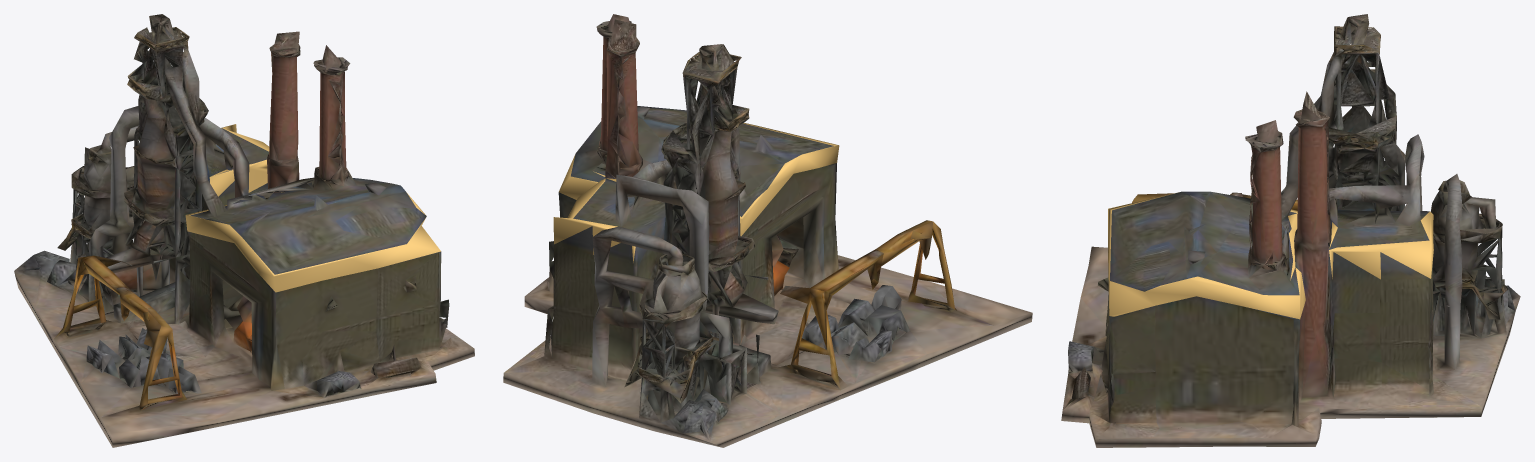
The model's file is foundry.glb.
The picture shows the model from 3 angles, left to right: view 1: azimuth 30°, elevation 25°; view 2: azimuth 150°, elevation 25°; view 3: azimuth 270°, elevation 25°; orthographic projection. The views are drawn at different scales.
Visible parts, largest first — view 1: Model; view 2: Model; view 3: Model.
Part boxes in pixels (left/top/right/bottom): Model: left=14, top=14, right=474, bottom=447; Model: left=503, top=14, right=1032, bottom=447; Model: left=1061, top=14, right=1520, bottom=447.
Size of the model in its own units: 2 by 1.58 by 2.
2 materials, 1 textured.
